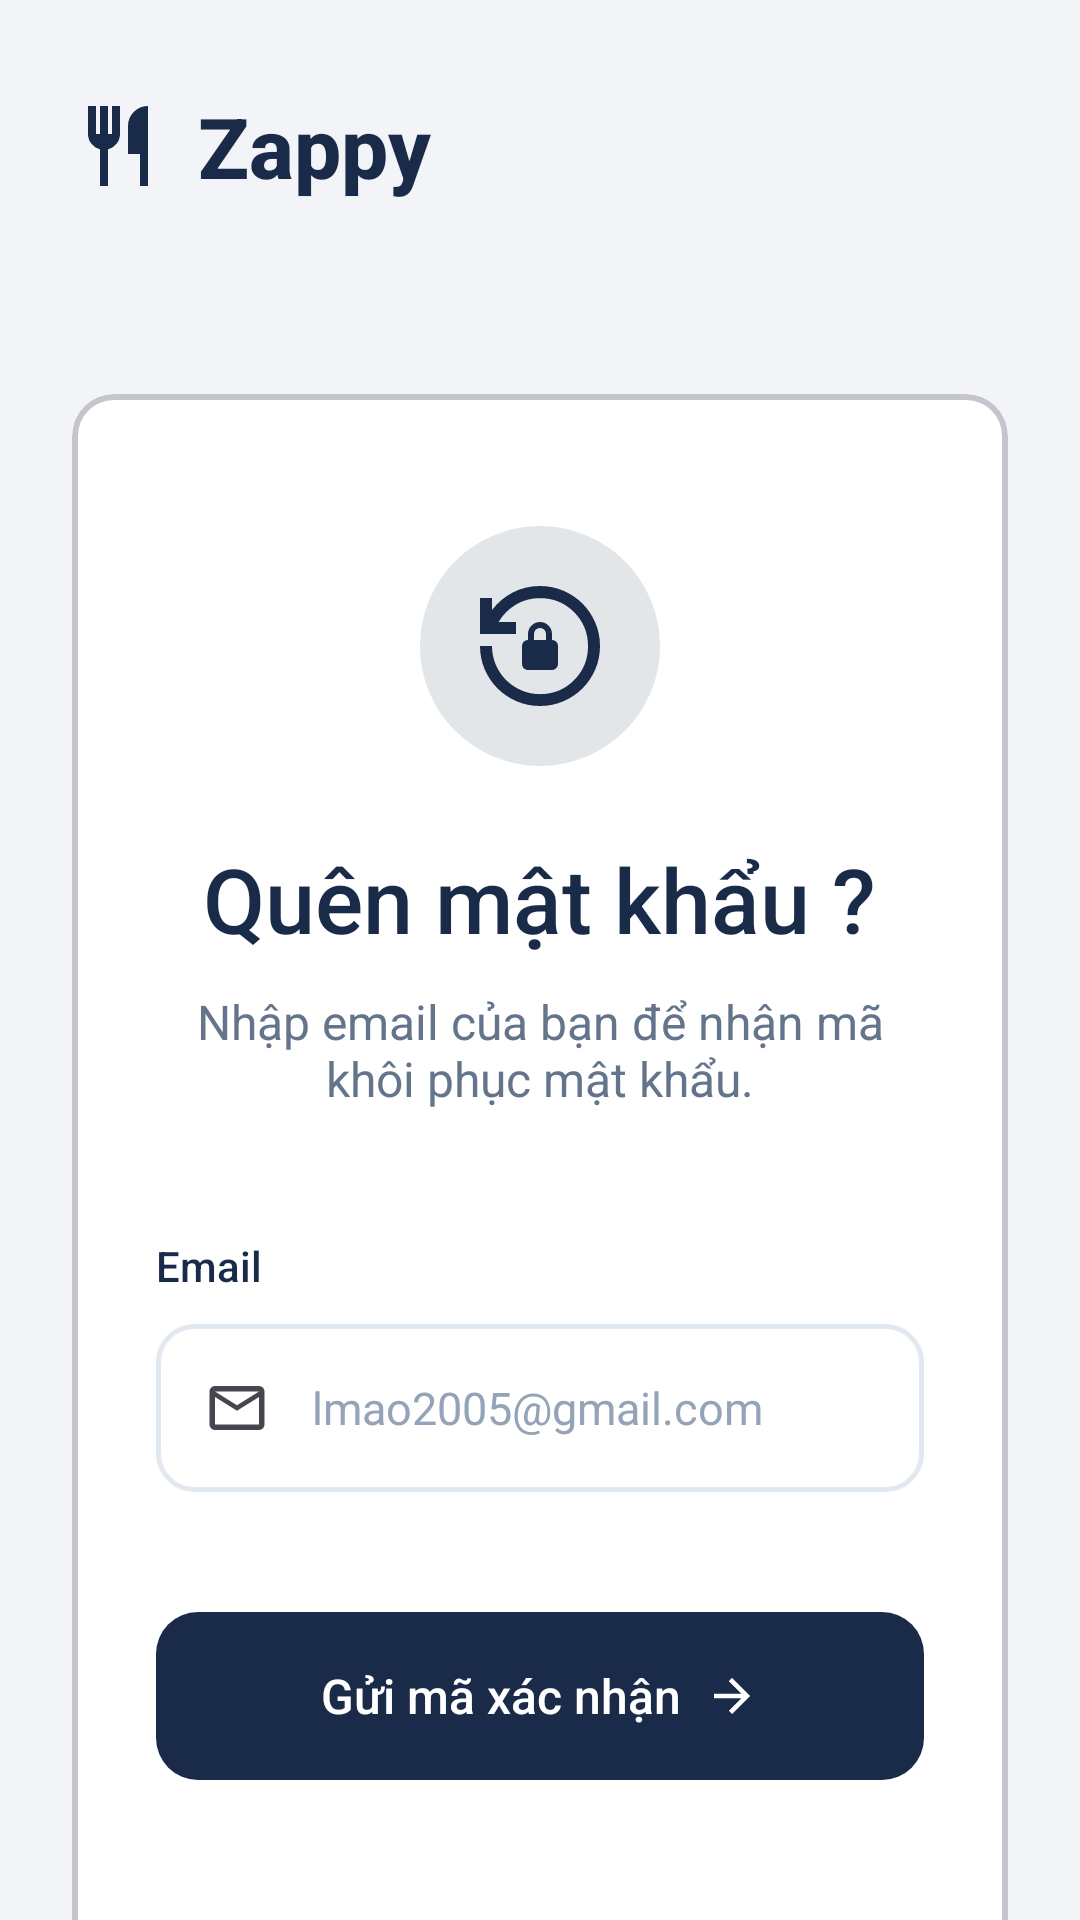

Icon click points for this 1080x1920 phone screenshot, format point (x, y):
arrow right: point (732, 1696)
lock reset: point (540, 646)
